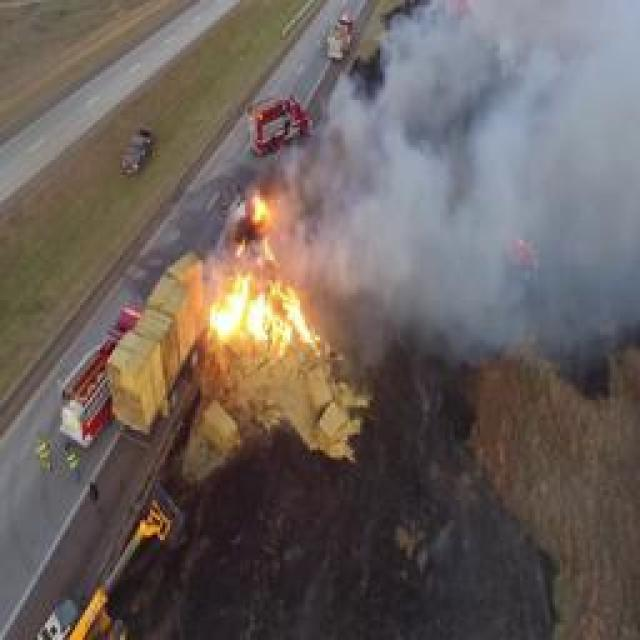Fire: (200, 268, 309, 360), (239, 189, 287, 245)
Smoke: (338, 52, 640, 338)
